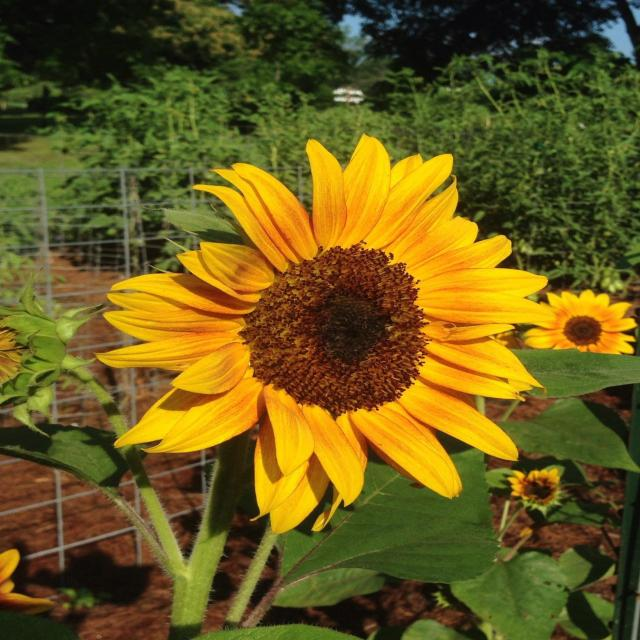sunflower: (94, 132, 554, 534), (522, 288, 636, 355), (0, 547, 50, 615), (506, 467, 564, 509)
